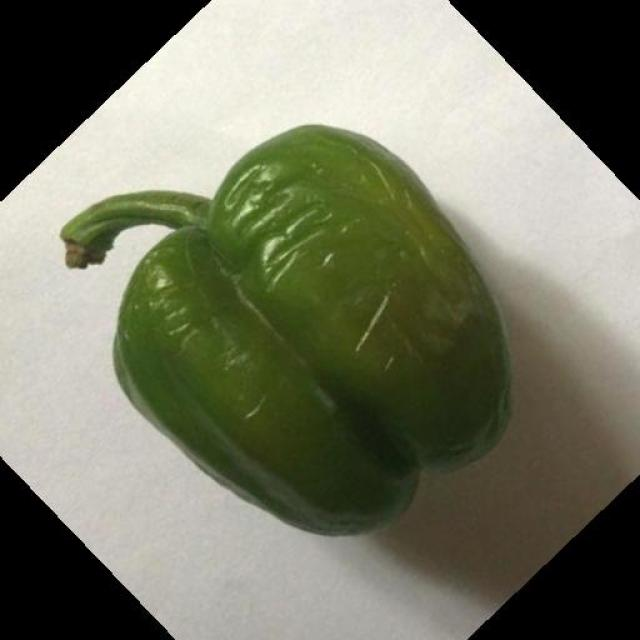Stale_Capsicum: (112, 124, 520, 547)
